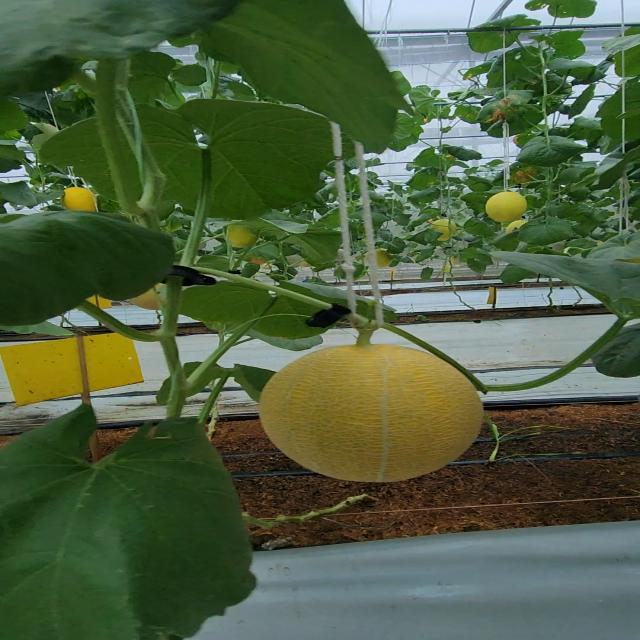Melon: (253, 340, 489, 490), (484, 191, 530, 226)
